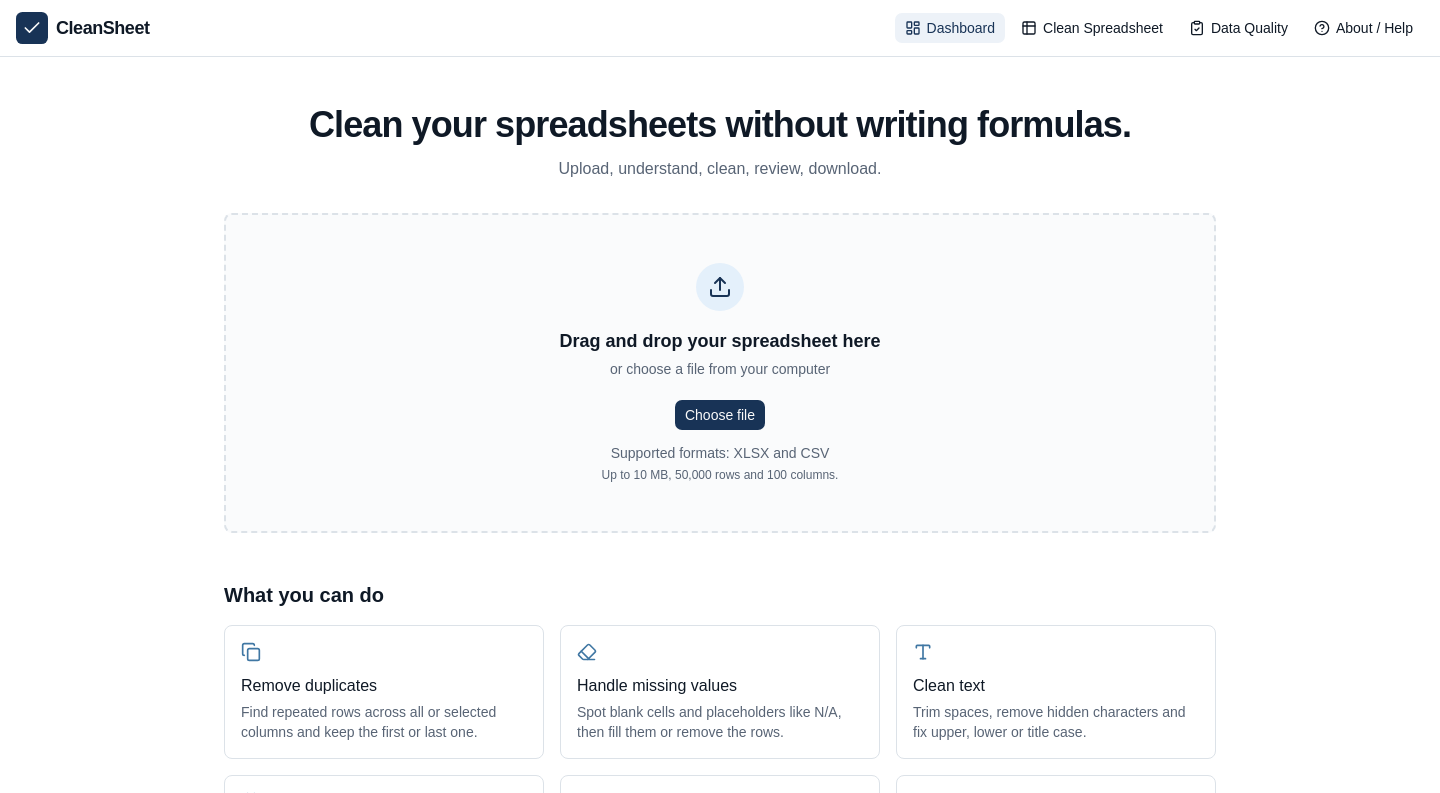
Test: App navigation › navigates to About / Help
Step 1. Click the button "About / Help" → (1363, 28), box [1303,12,1424,44]
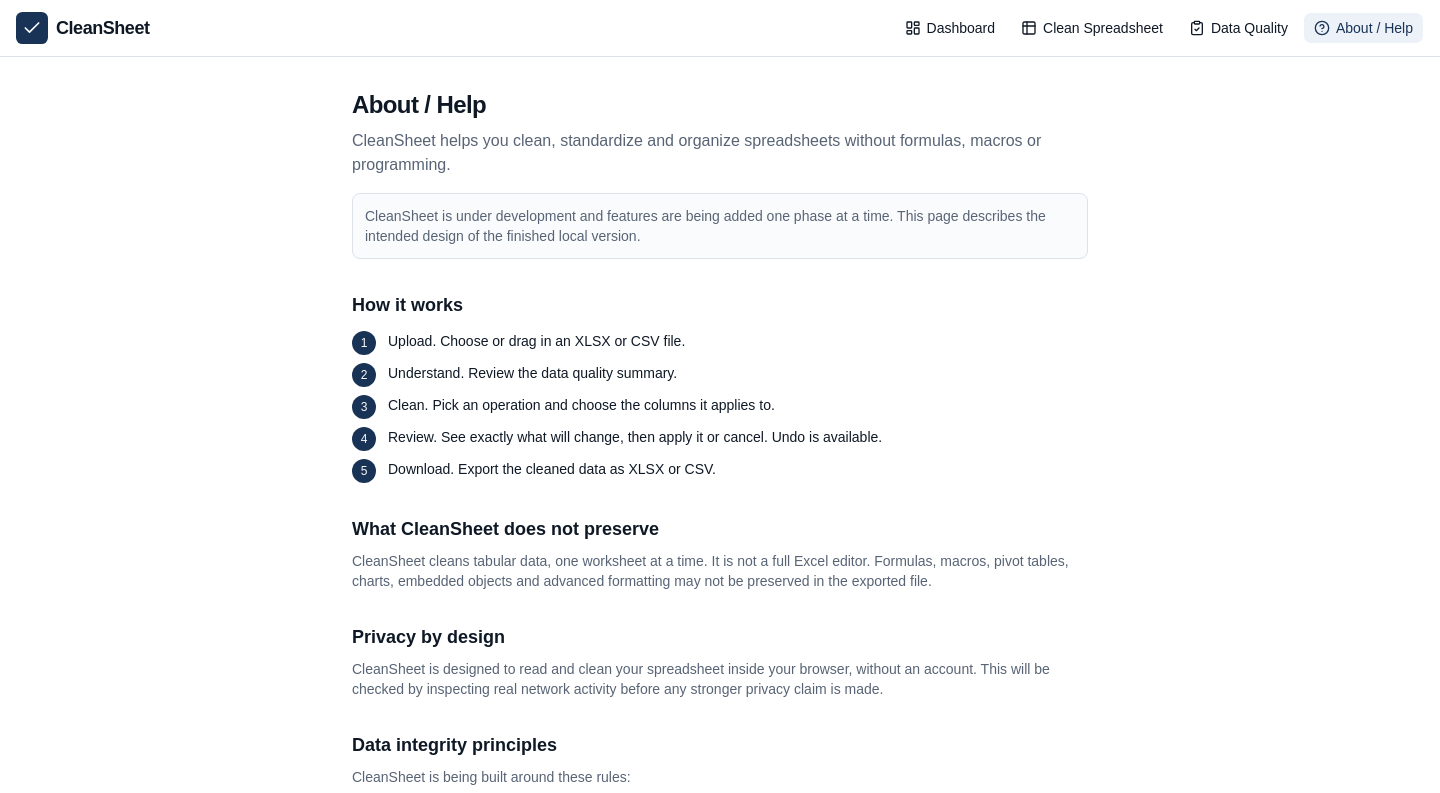
Result: the heading "About / Help" is shown at [352,91,486,118]
